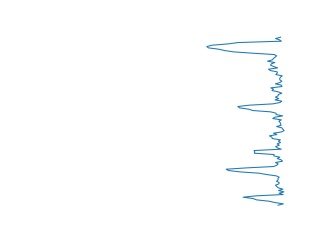distalBar: (203, 35, 287, 87)
interdistributaryEstuary: (236, 88, 288, 143)
underwaterNaturalLevee: (223, 144, 289, 207)
